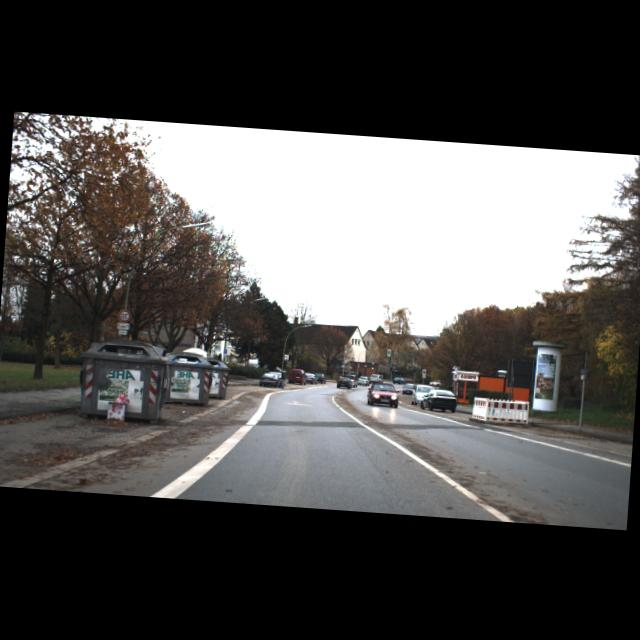prohibitory: (117, 308, 131, 322)
